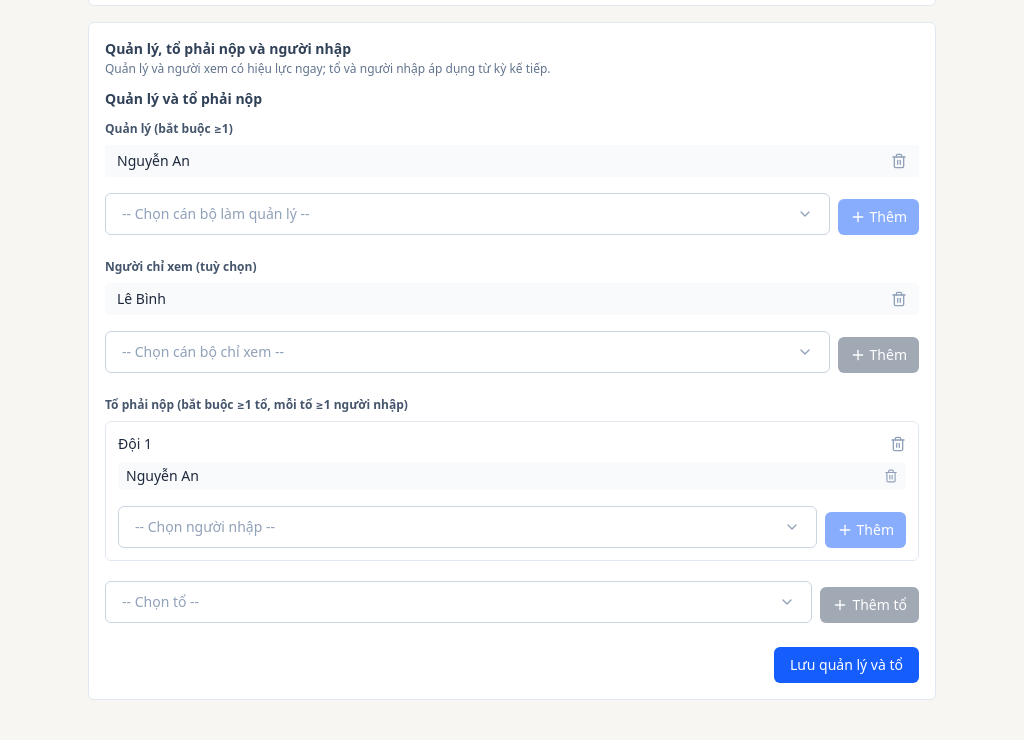
Test case: ReportEditPage — "Sửa cấu hình" › removing the only editor of a team blocks the Save (every team needs somebody to type)
(page scrolled)
Click the button with test id "btn-remove-editor-t1-u1" at (891, 476), box top-left (884, 469), bottom-right (898, 483)
(page scrolled)
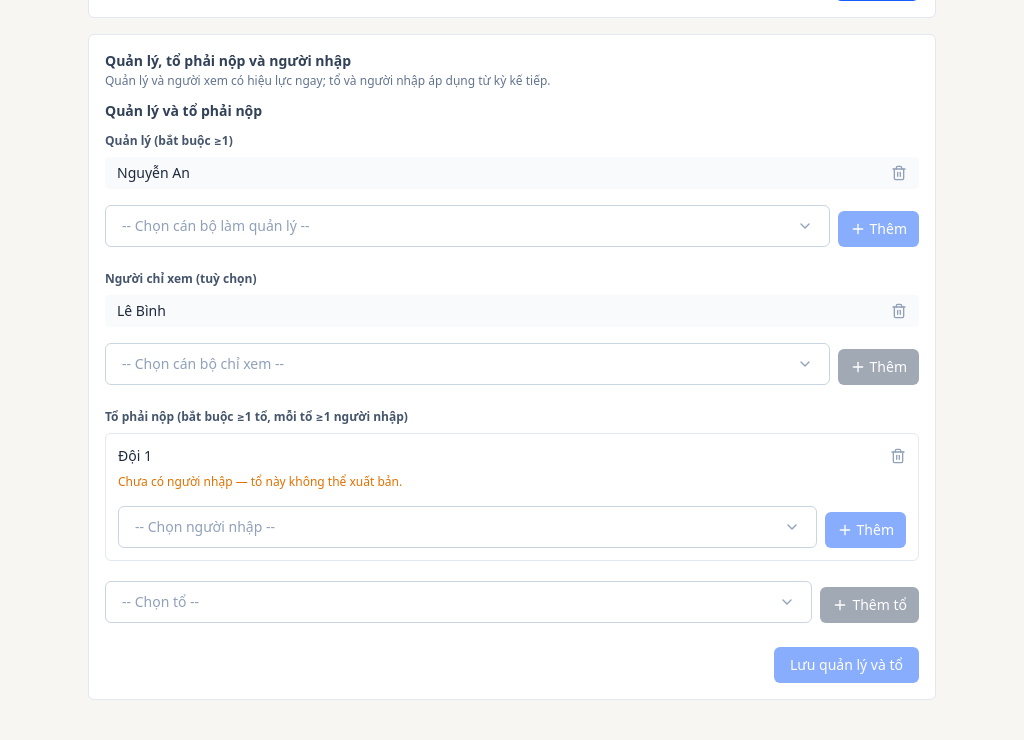
Check: the button with test id "btn-teams-next" is disabled, box top-left (774, 647), bottom-right (919, 683)
